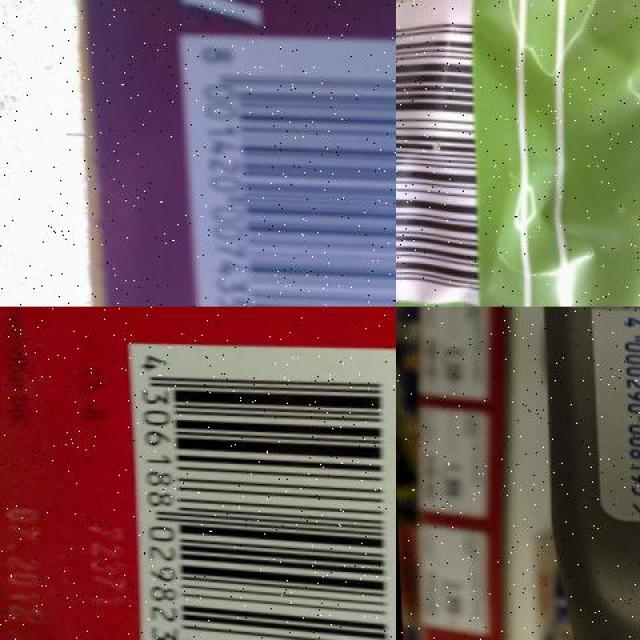Barcode: (124, 332, 396, 640), (184, 20, 396, 307), (395, 0, 485, 305), (594, 306, 640, 521)
